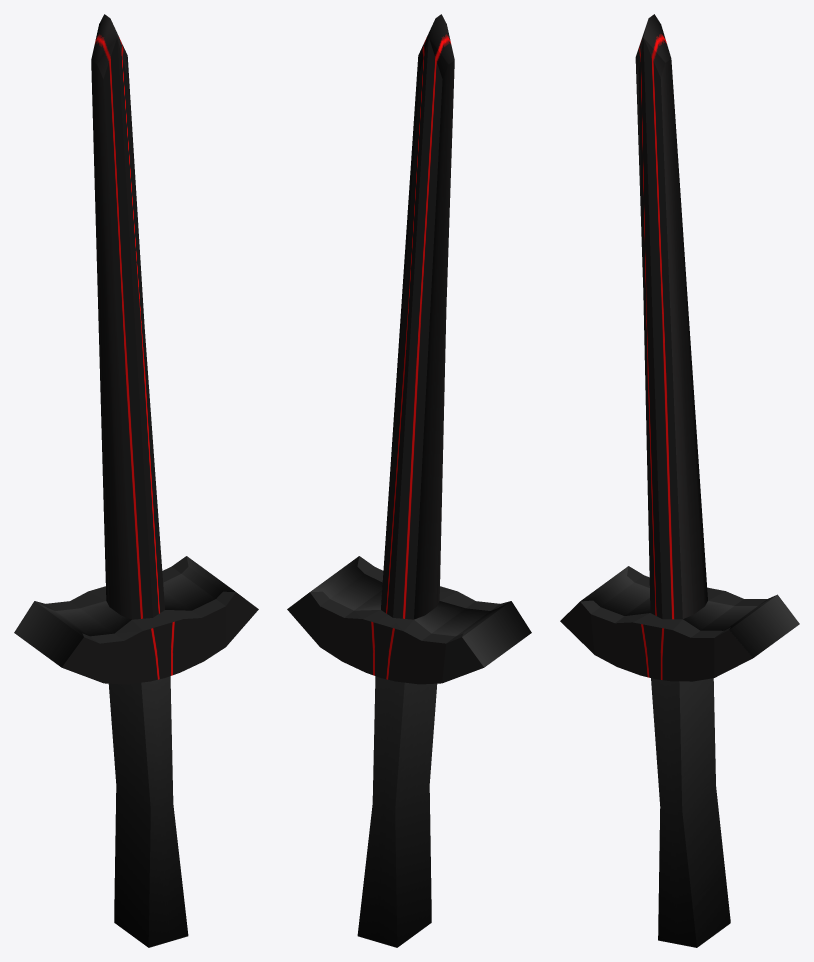
File: excaliburmorgan_drop.FBX
3 renders of one model, left to right at view 1: azimuth 30°, elevation 25°; view 2: azimuth 150°, elevation 25°; view 3: azimuth 330°, elevation 25°, orthographic. The views are drawn at different scales.
Parts seen in each view (by area): view 1: Box001; view 2: Box001; view 3: Box001.
Part boxes in pixels (<box>): Box001: <box>14,14,258,947</box>; Box001: <box>287,14,531,947</box>; Box001: <box>560,14,799,947</box>.
Bounding box in the file's own units: 28.86 × 13.76 × 129.
2 materials, 2 textured.
